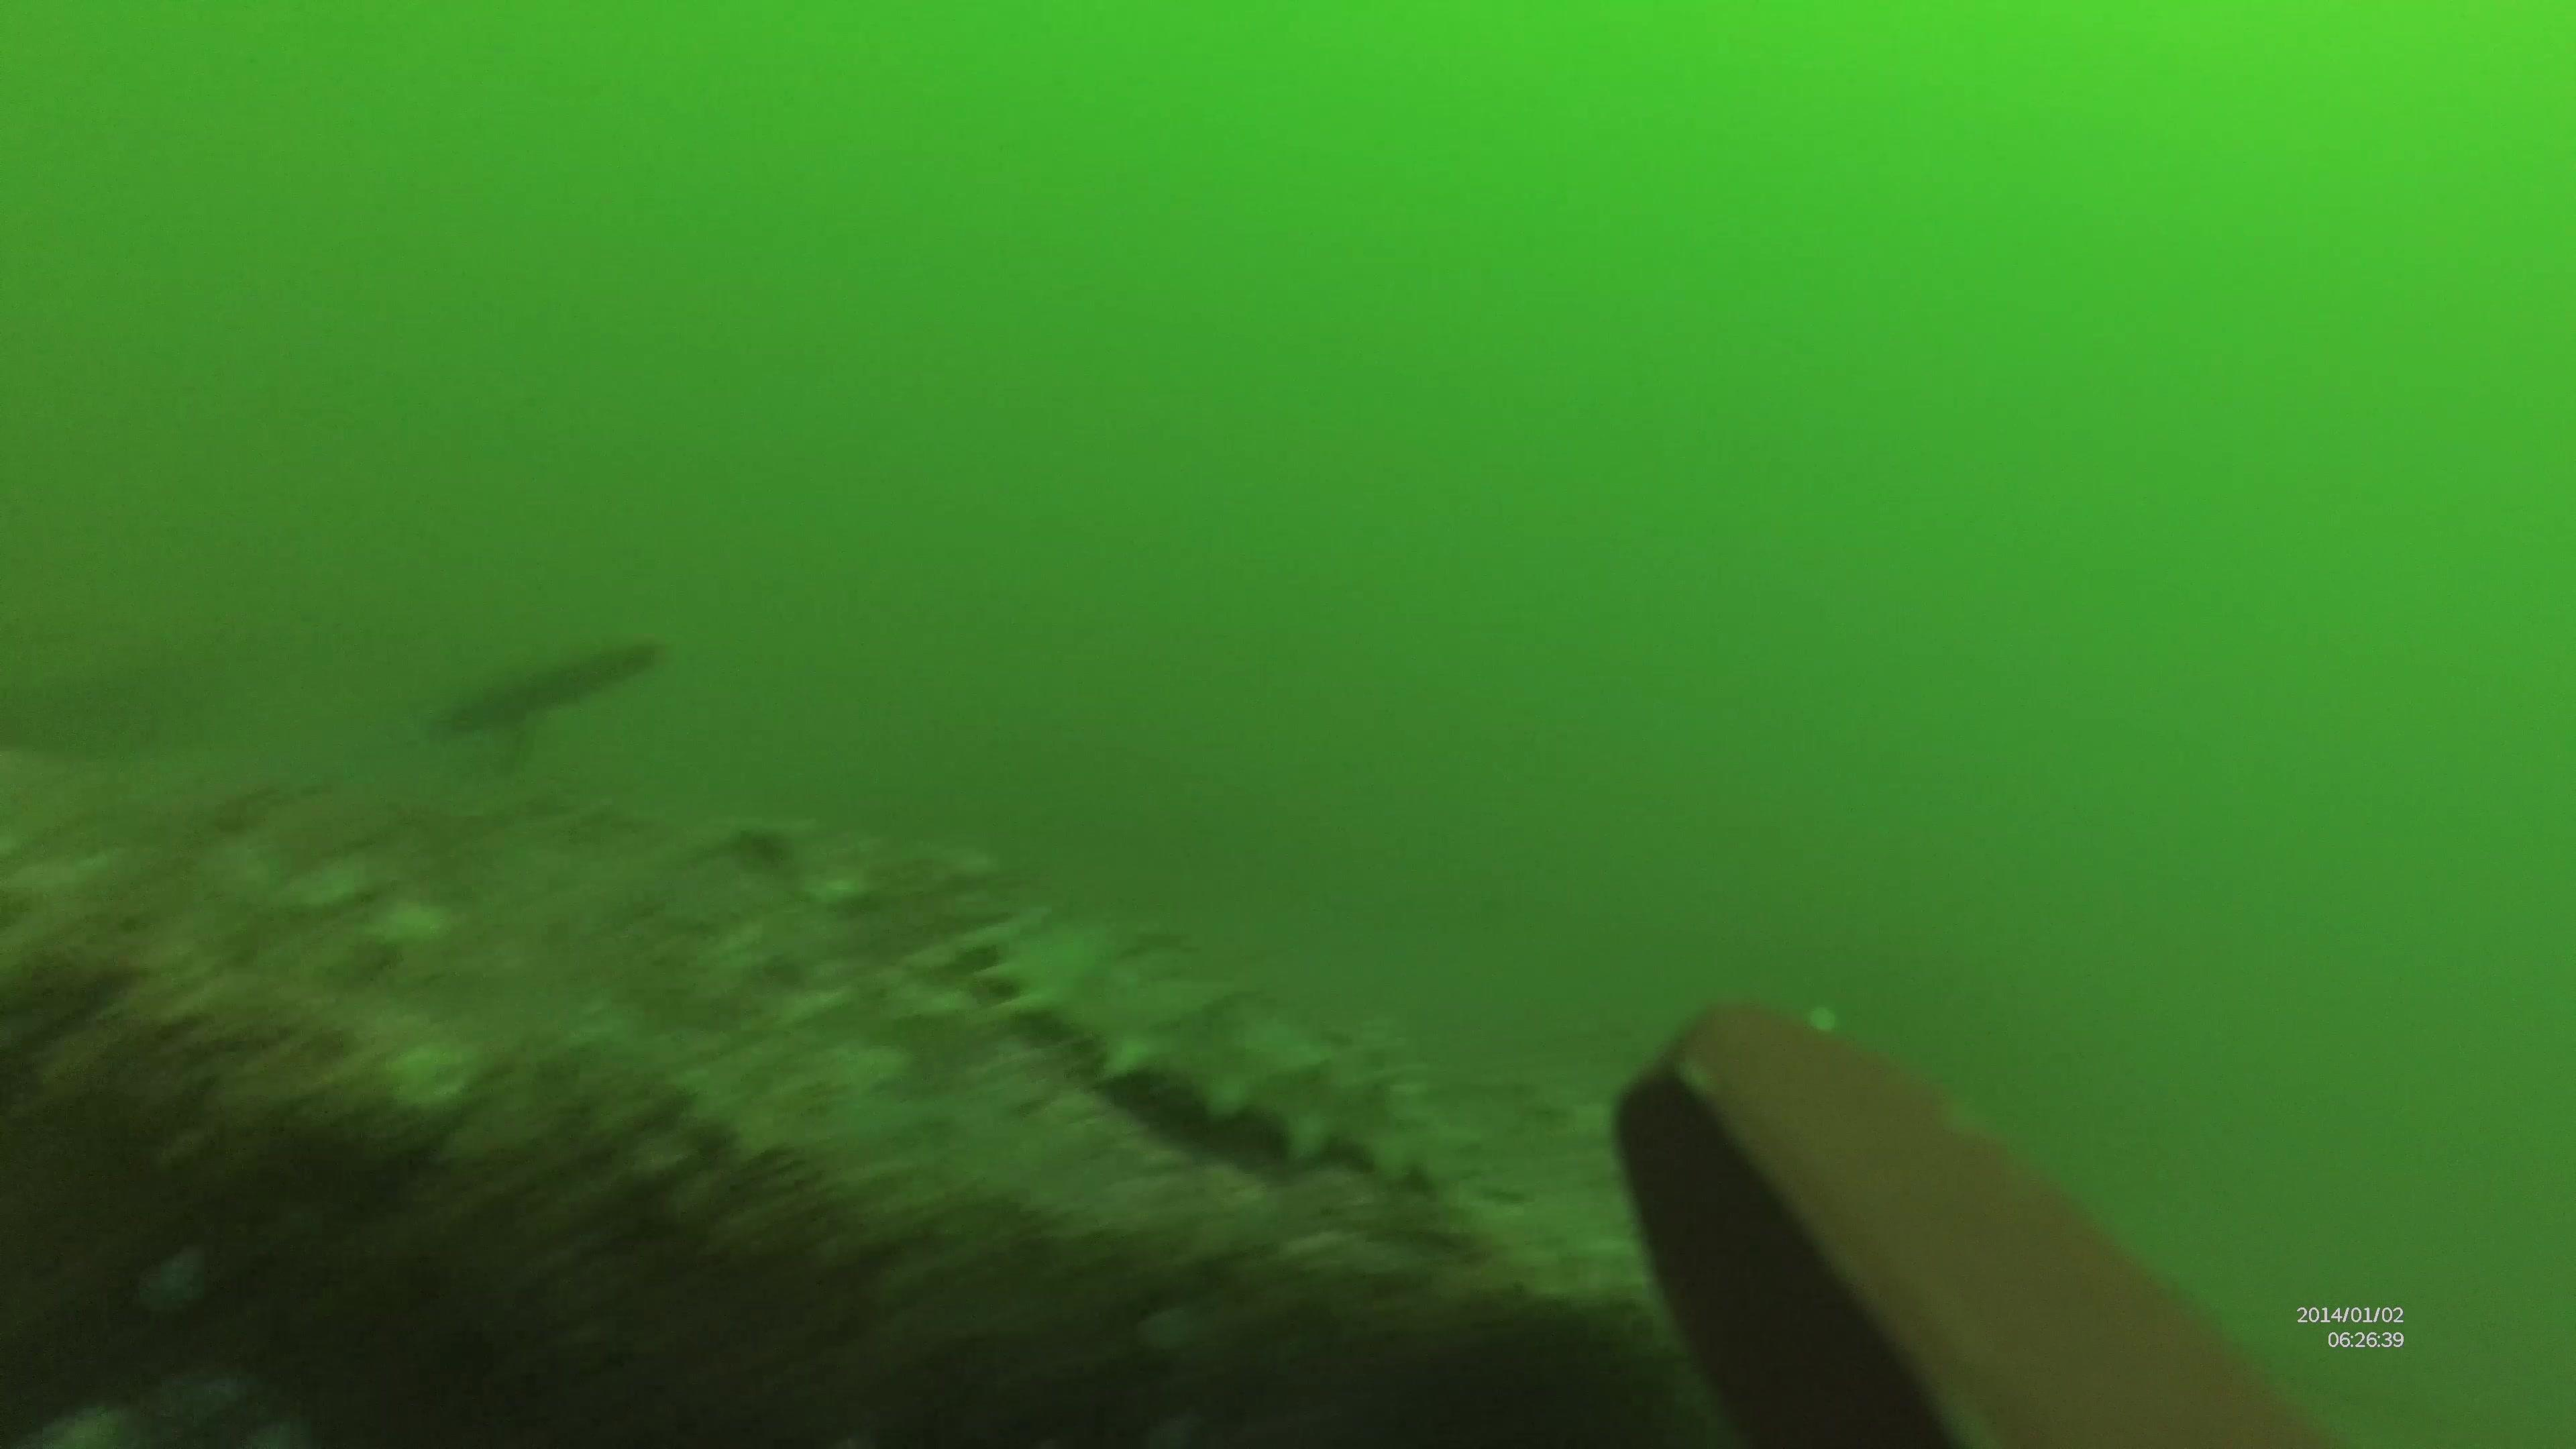holothurian: (966, 902, 1426, 1182)
